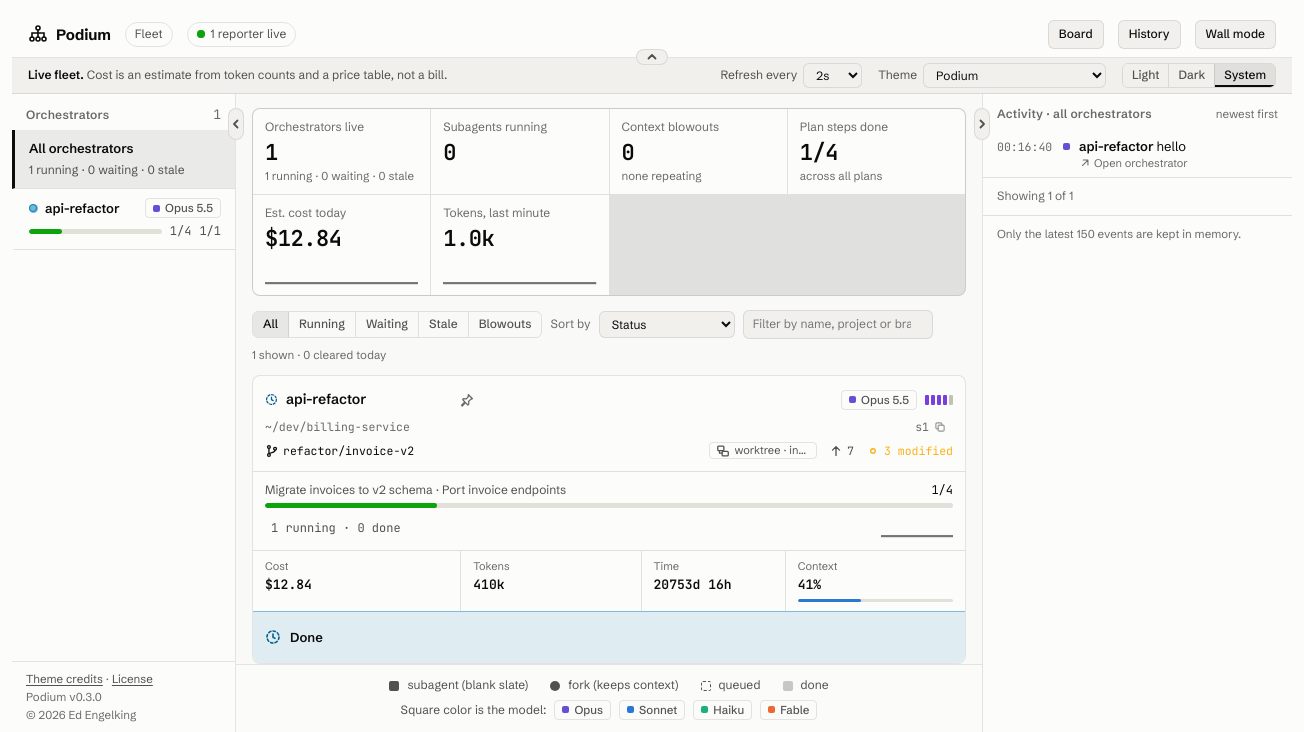
Test: FleetView collapsible shell › hides the top bar and its banner with \, and brings them back
This screenshot has width=1304, height=732.
Expected: the text "Live fleet." is shown, [28,67,84,82]
Press \
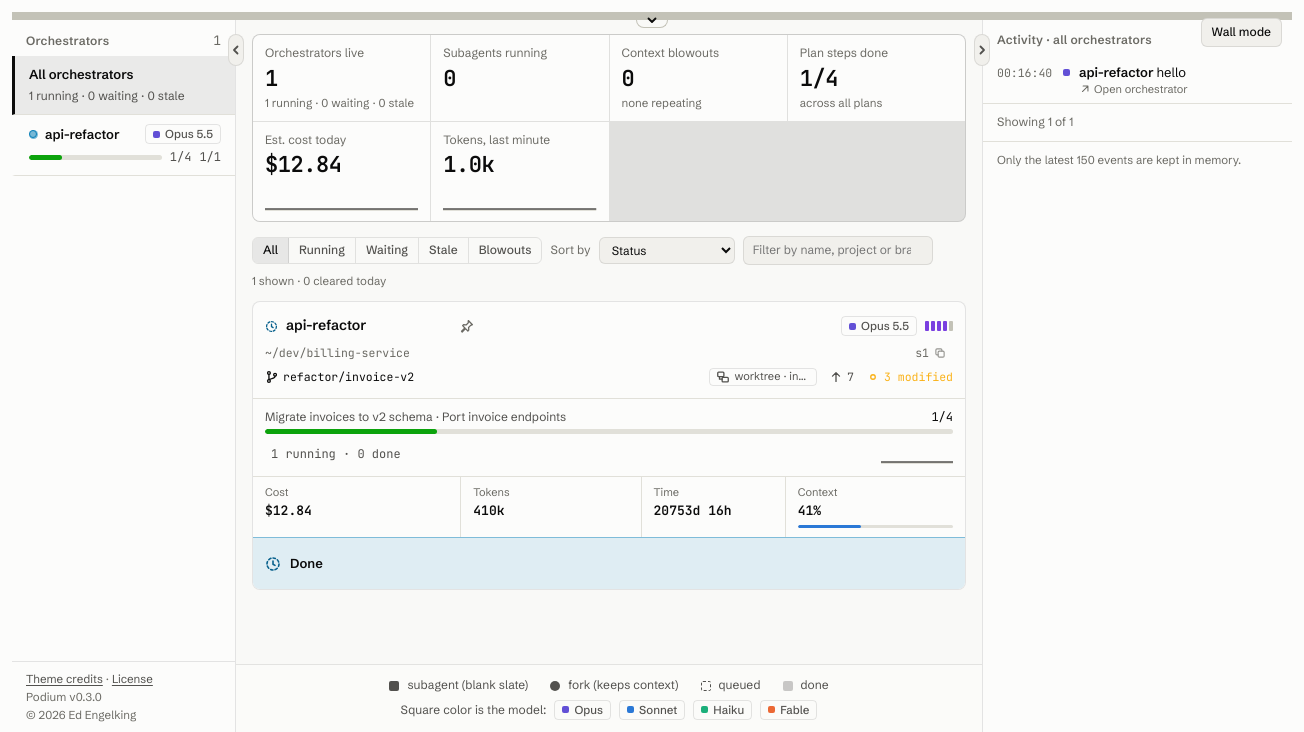
Now the button is gone
Now the text "Live fleet." is gone
Click the button named "Show top bar": coordinates (652, 20) [636,12,668,28]
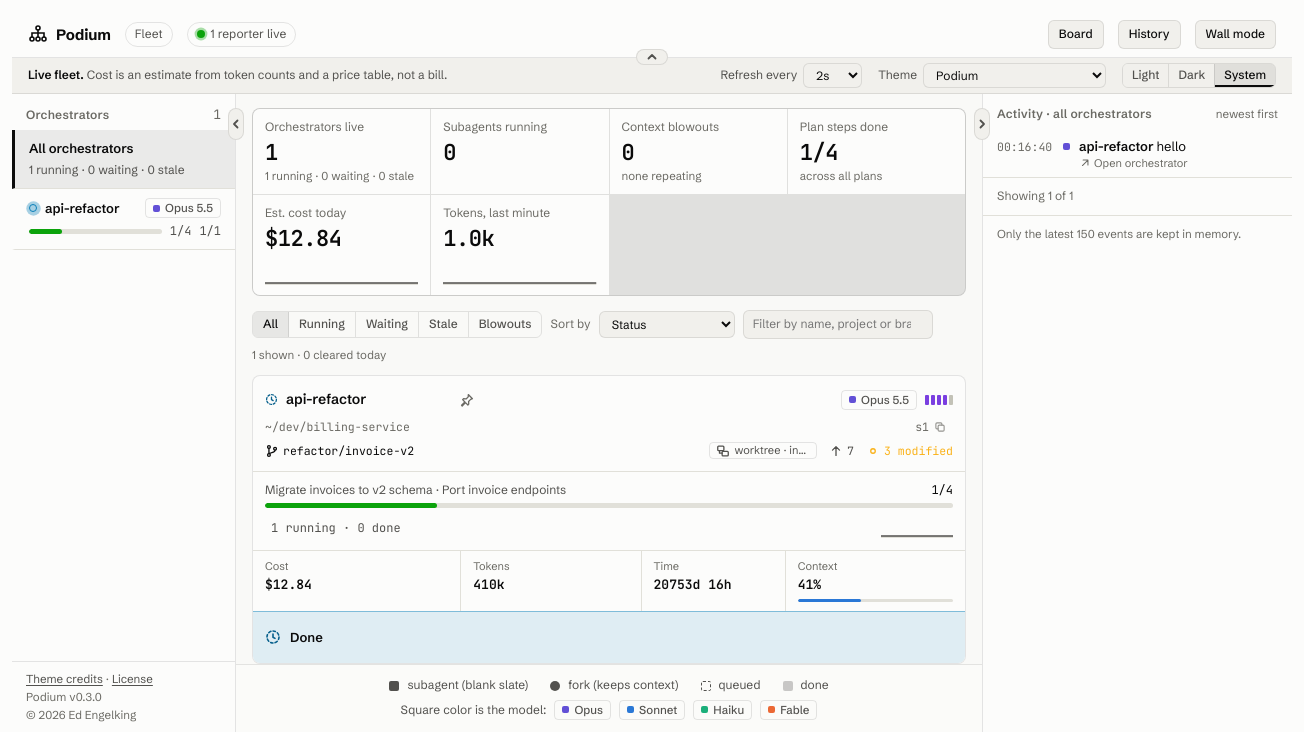
Now the header is shown, box [12,12,1292,58]
Now the text "Live fleet." is shown, box [28,67,84,82]
